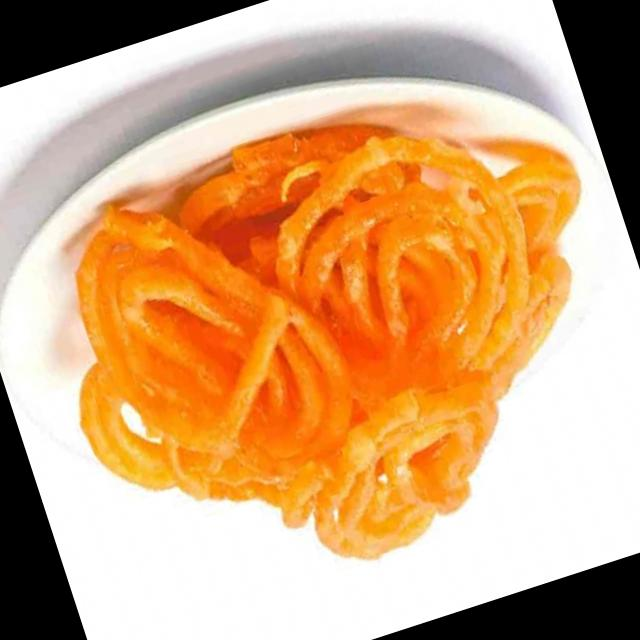jalebi: (11, 36, 640, 633)
